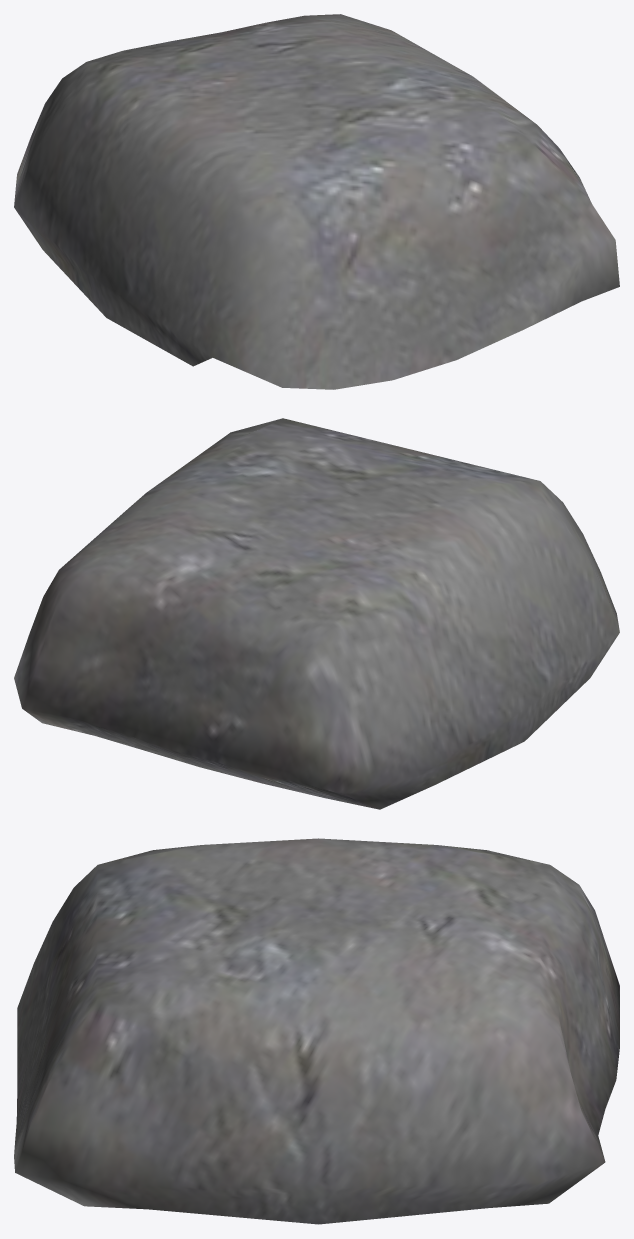
Rendered from SM_Sun_Dae_Stone_J.fbx.
3 renders of one model, top to bottom at view 1: azimuth 30°, elevation 25°; view 2: azimuth 150°, elevation 25°; view 3: azimuth 270°, elevation 25°, orthographic. The views are drawn at different scales.
Visible parts, largest first — view 1: SM_Sun_Dae_Stone_J; view 2: SM_Sun_Dae_Stone_J; view 3: SM_Sun_Dae_Stone_J.
Boxes of the visible parts, left/top/right/bottom form: SM_Sun_Dae_Stone_J: left=14, top=14, right=619, bottom=389; SM_Sun_Dae_Stone_J: left=14, top=418, right=619, bottom=809; SM_Sun_Dae_Stone_J: left=14, top=838, right=619, bottom=1224.
Bounding box in the file's own units: 88.61 × 37.85 × 98.67.
